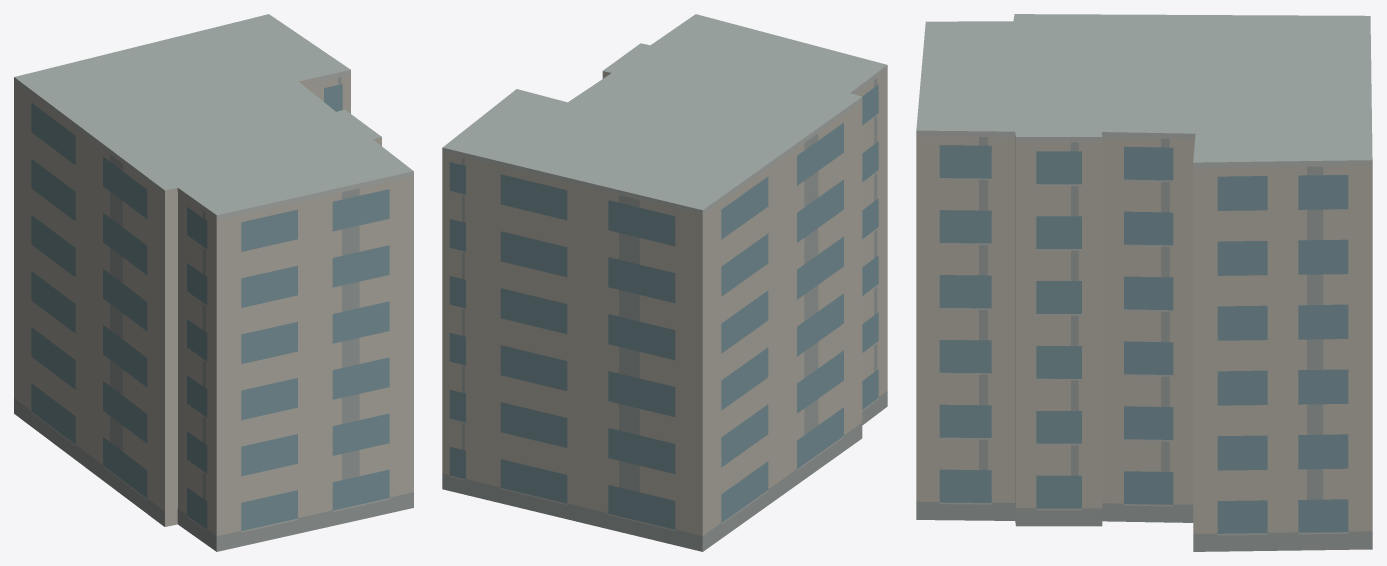
File: survey-upis-32975388.glb
3 views of the same model, side by side, from view 1: azimuth 30°, elevation 25°; view 2: azimuth 150°, elevation 25°; view 3: azimuth 270°, elevation 25° (orthographic). The views are drawn at different scales.
Visible parts, largest first — view 1: survey-upis-32975388.tmp; view 2: survey-upis-32975388.tmp; view 3: survey-upis-32975388.tmp.
Boxes of the visible parts, box(x1,y1,x2,y2) form: survey-upis-32975388.tmp: box(14, 14, 413, 551); survey-upis-32975388.tmp: box(442, 14, 887, 551); survey-upis-32975388.tmp: box(916, 14, 1372, 551).
Bounding box in the file's own units: 13.6 × 16.6 × 17.65.
